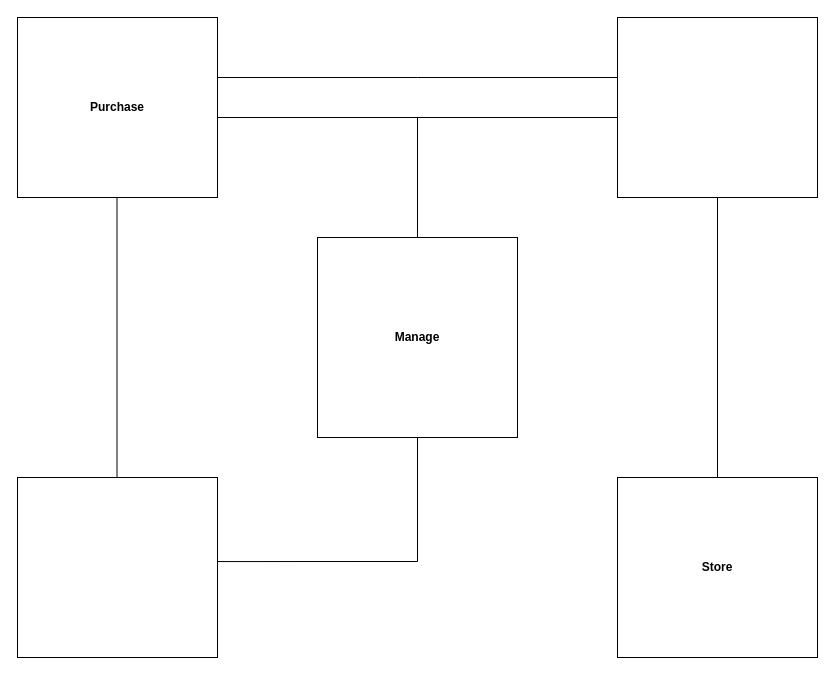
This 835x675 diagram has some shape labels left out. The shapes that lost their labels are listed below. From the top down, each one's centre as x and y in pixels, then its label:
(717,107): Mobile Phone
(117,567): Customer
